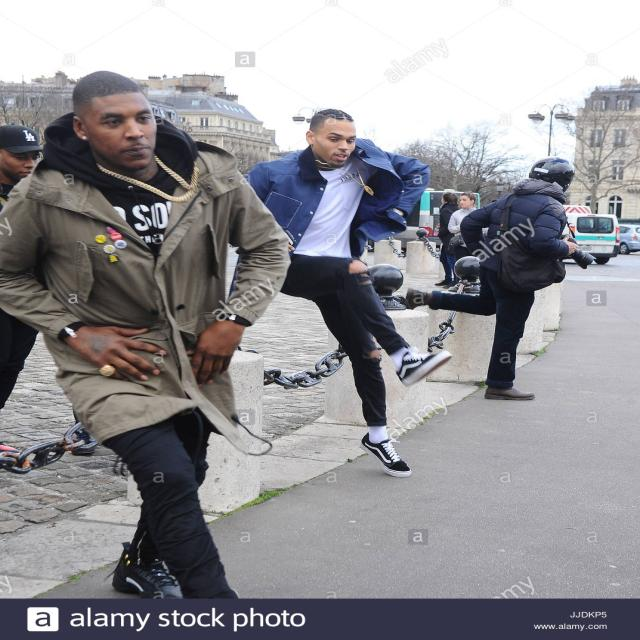body: (0, 68, 289, 599), (227, 107, 433, 478), (404, 157, 580, 402), (0, 124, 48, 415), (434, 191, 462, 290), (446, 191, 480, 260)
